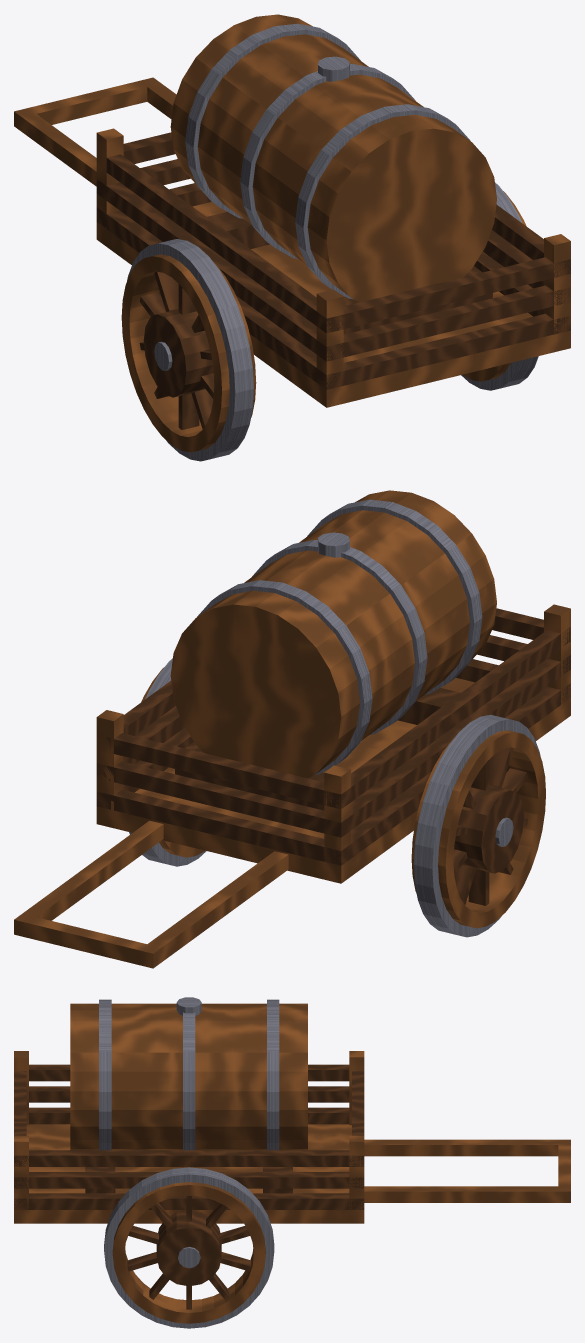
Rendered from holzwagen_fass.fbx.
The picture shows the model from 3 angles, top to bottom: view 1: azimuth 30°, elevation 25°; view 2: azimuth 150°, elevation 25°; view 3: azimuth 270°, elevation 25°; orthographic projection. The views are drawn at different scales.
Visible parts, largest first — view 1: Holzwagen_Fass; view 2: Holzwagen_Fass; view 3: Holzwagen_Fass.
Boxes of the visible parts, x1=… form: Holzwagen_Fass: x1=14, y1=14, x2=570, y2=461; Holzwagen_Fass: x1=14, y1=490, x2=570, y2=968; Holzwagen_Fass: x1=14, y1=997, x2=570, y2=1328.
Size of the model in its own units: 121 by 118 by 222.
